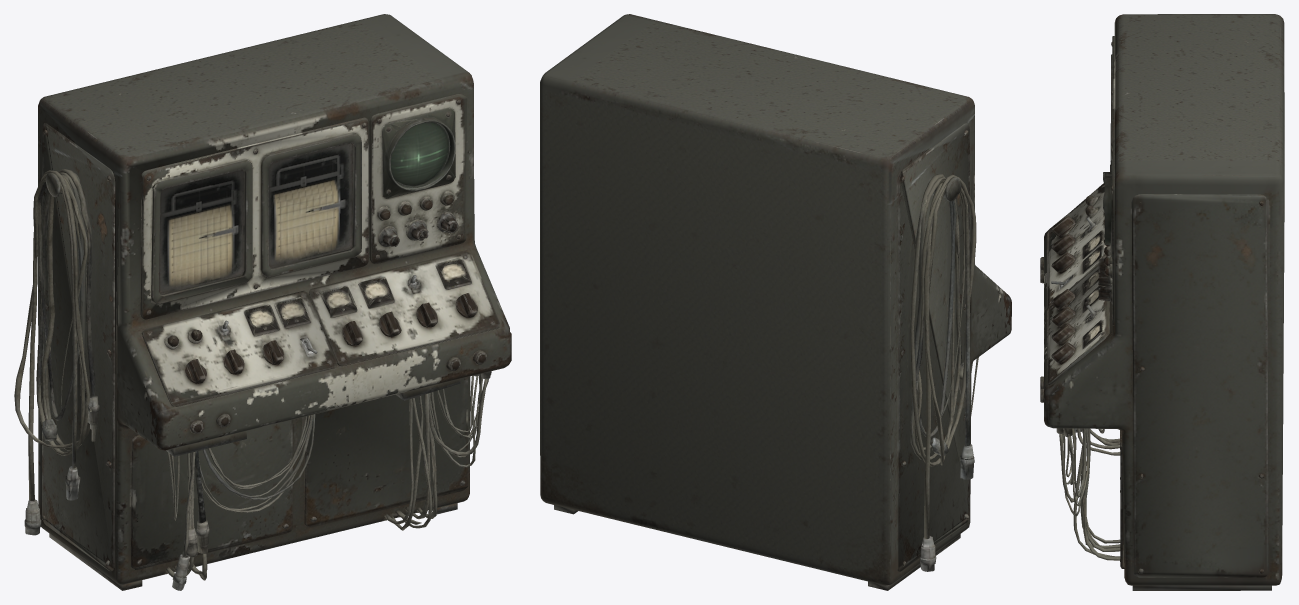
Rendered from silo81_temp_monitor.glb.
3 renders of one model, left to right at view 1: azimuth 30°, elevation 25°; view 2: azimuth 150°, elevation 25°; view 3: azimuth 270°, elevation 25°, orthographic. The views are drawn at different scales.
Bounding box in the file's own units: 0.896 × 0.9531 × 0.5034.
1 material, 1 textured.
